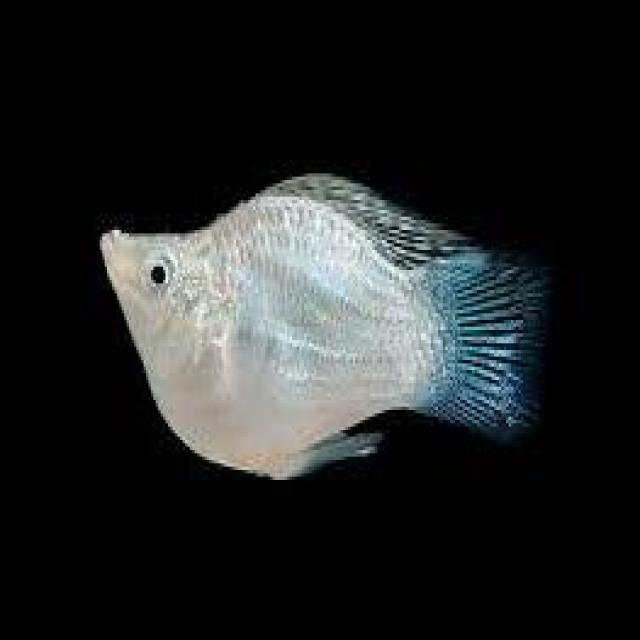PlatyFish: (97, 164, 562, 494)
